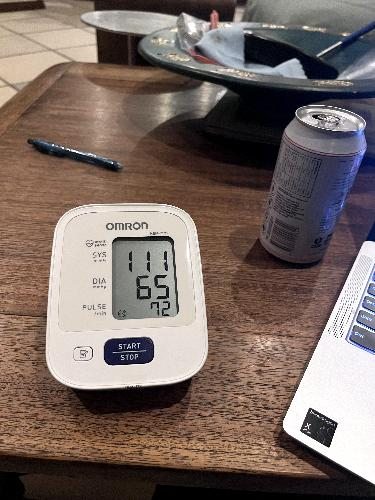bpm: (110, 235, 180, 321)
